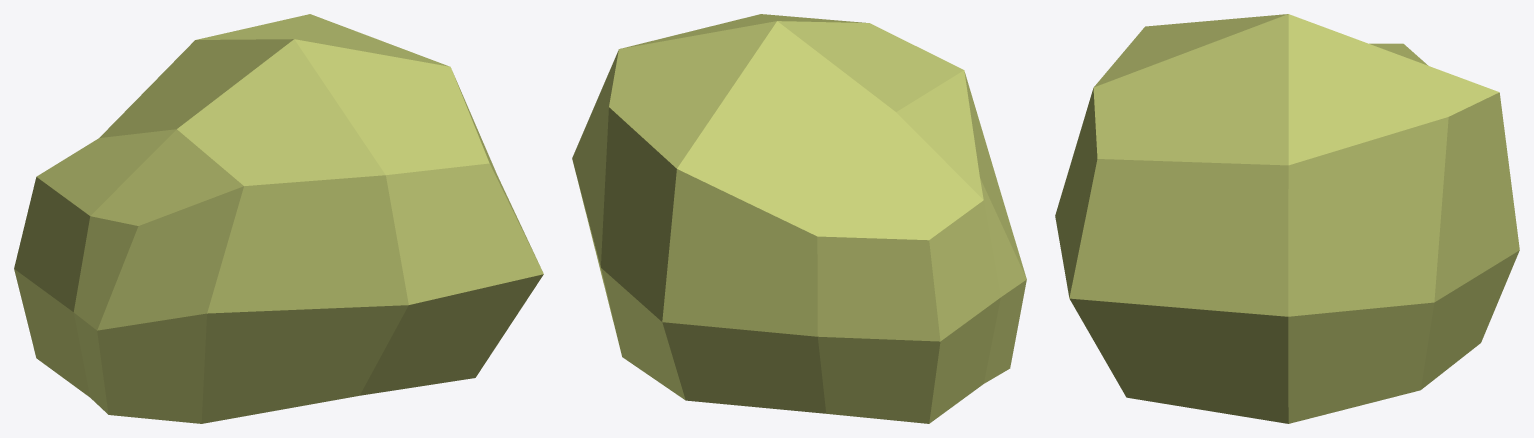
The model's file is rock4.fbx.
The picture shows the model from 3 angles, left to right: view 1: azimuth 30°, elevation 25°; view 2: azimuth 150°, elevation 25°; view 3: azimuth 270°, elevation 25°; orthographic projection. The views are drawn at different scales.
Visible parts, largest first — view 1: rock-4; view 2: rock-4; view 3: rock-4.
Part boxes in pixels (box(x1,y1,x2,y2)): rock-4: box(14, 14, 543, 423); rock-4: box(572, 14, 1026, 423); rock-4: box(1055, 14, 1519, 423).
Bounding box in the file's own units: 209 × 145 × 186.
